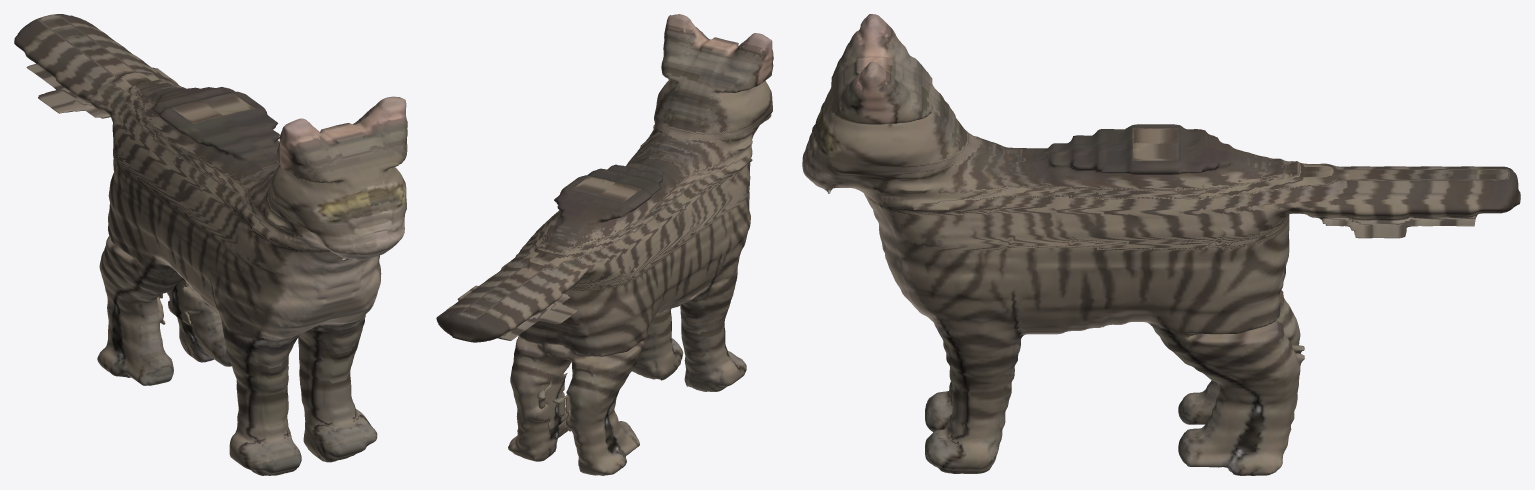
Rendered from gato_libre.glb.
3 renders of one model, left to right at view 1: azimuth 30°, elevation 25°; view 2: azimuth 150°, elevation 25°; view 3: azimuth 270°, elevation 25°, orthographic. The views are drawn at different scales.
Parts seen in each view (by area): view 1: HumanModel_Static; view 2: HumanModel_Static; view 3: HumanModel_Static.
Boxes of the visible parts, x1,y1,x2,y2 form: HumanModel_Static: (14,14,407,475); HumanModel_Static: (436,14,773,475); HumanModel_Static: (802,14,1520,475).
Size of the model in its own units: 0.9931 by 2.63 by 4.14.
1 material, 1 textured.
